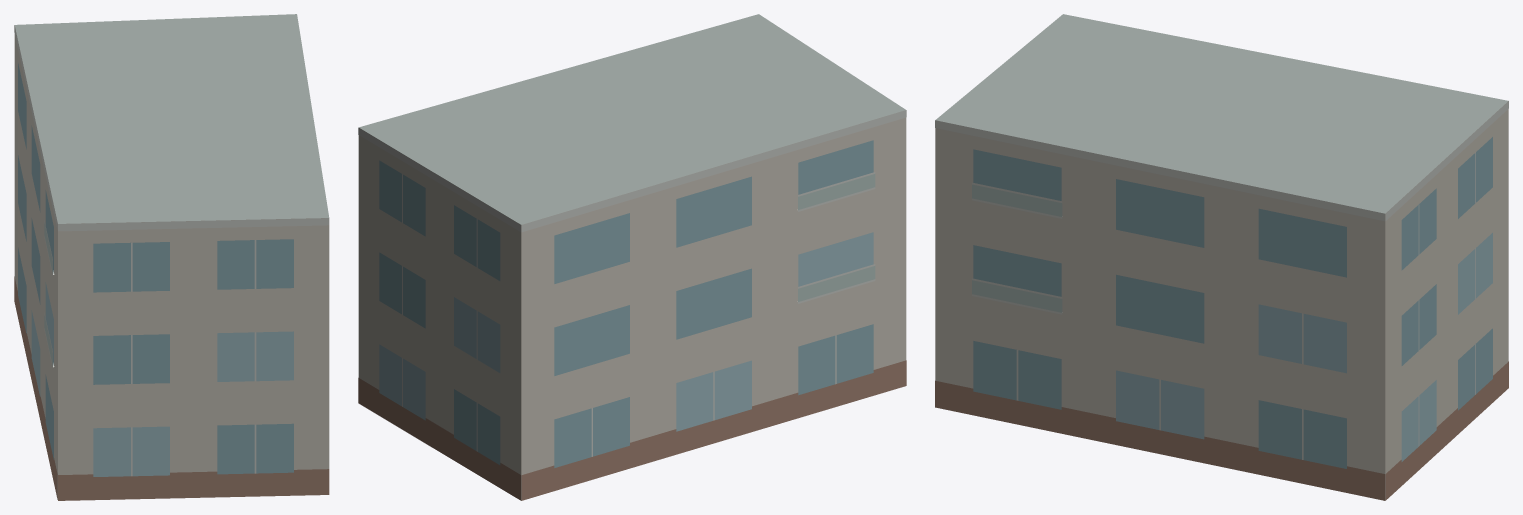
File: survey-upis-32553122.glb
The picture shows the model from 3 angles, left to right: view 1: azimuth 30°, elevation 25°; view 2: azimuth 150°, elevation 25°; view 3: azimuth 270°, elevation 25°; orthographic projection. The views are drawn at different scales.
Visible parts, largest first — view 1: survey-upis-32553122.tmp; view 2: survey-upis-32553122.tmp; view 3: survey-upis-32553122.tmp.
Part boxes in pixels (box(x1,y1,x2,y2)): survey-upis-32553122.tmp: box(14, 14, 329, 500); survey-upis-32553122.tmp: box(358, 14, 906, 500); survey-upis-32553122.tmp: box(935, 14, 1508, 500).
Size of the model in its own units: 13.43 by 9 by 16.3.
